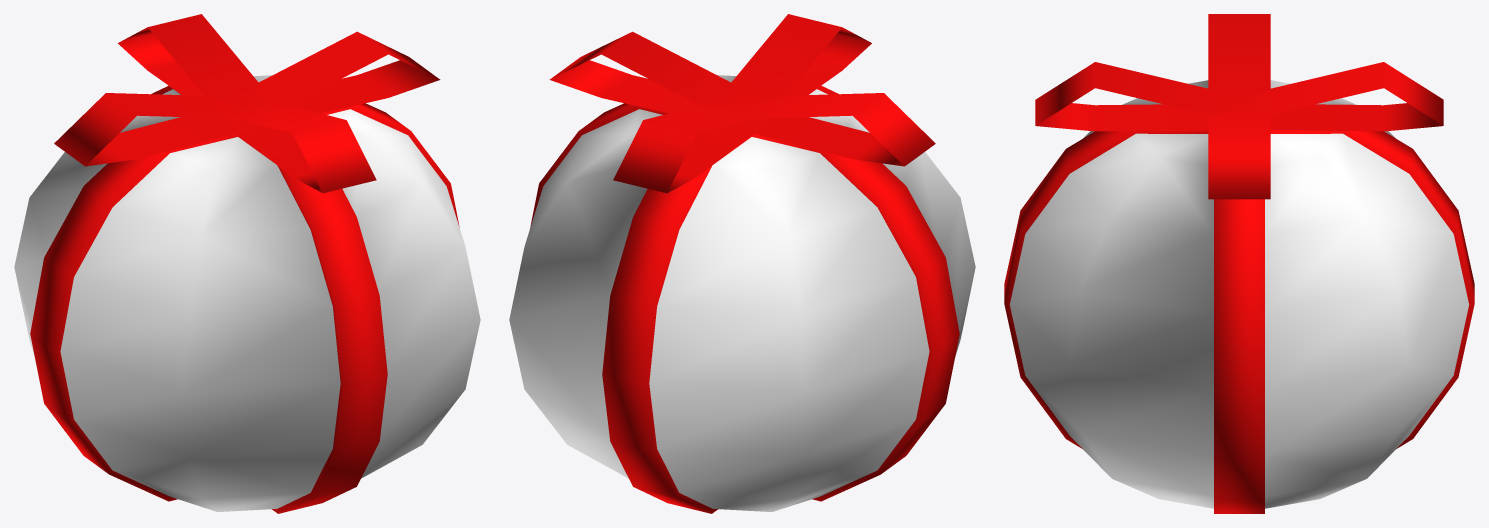
File: presentball.fbx
3 renders of one model, left to right at view 1: azimuth 30°, elevation 25°; view 2: azimuth 150°, elevation 25°; view 3: azimuth 270°, elevation 25°, orthographic.
Visible parts, largest first — view 1: Presentball; view 2: Presentball; view 3: Presentball.
Part boxes in pixels (x1=…): Presentball: x1=14, y1=14, x2=480, y2=513; Presentball: x1=509, y1=14, x2=975, y2=513; Presentball: x1=1004, y1=14, x2=1474, y2=513.
Bounding box in the file's own units: 230 × 213 × 230.
Materials: 1 (1 with a texture image).
